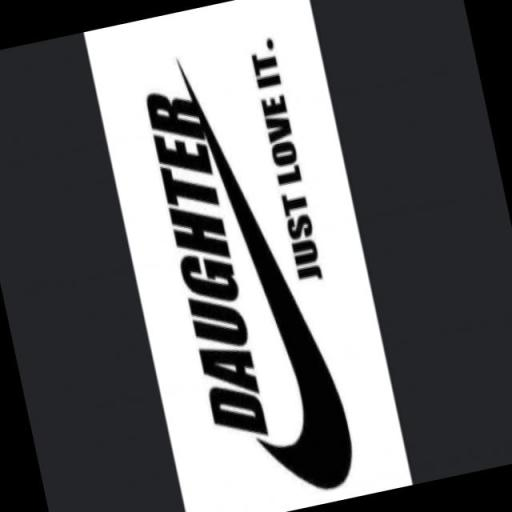Nike: (172, 24, 366, 506)
